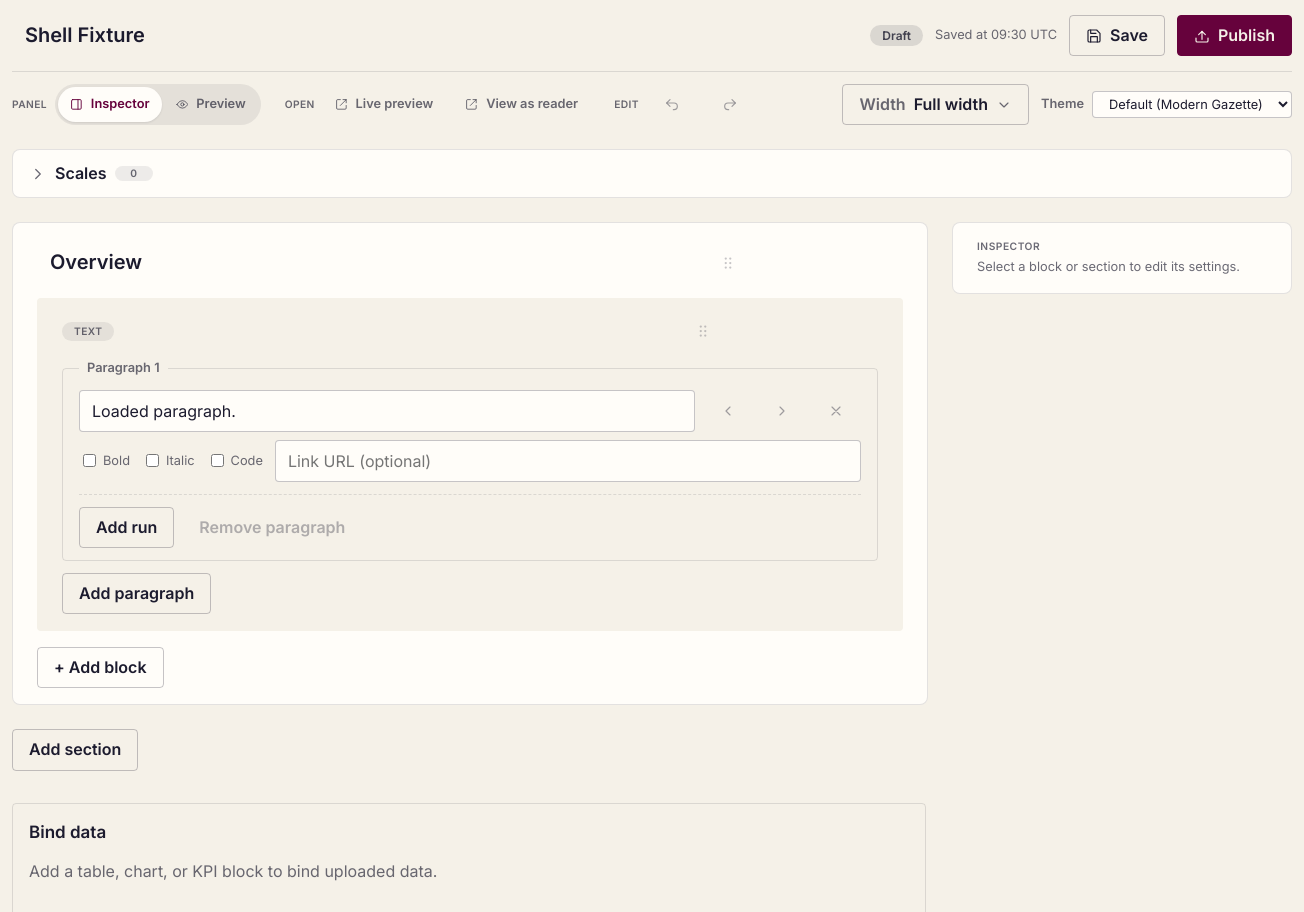
Scenario: ReportEditor shell › renders the authoritative live preview through the pure renderer
The image size is (1304, 912).
Click the button "Preview" at (211, 105), box [164,87,258,122]
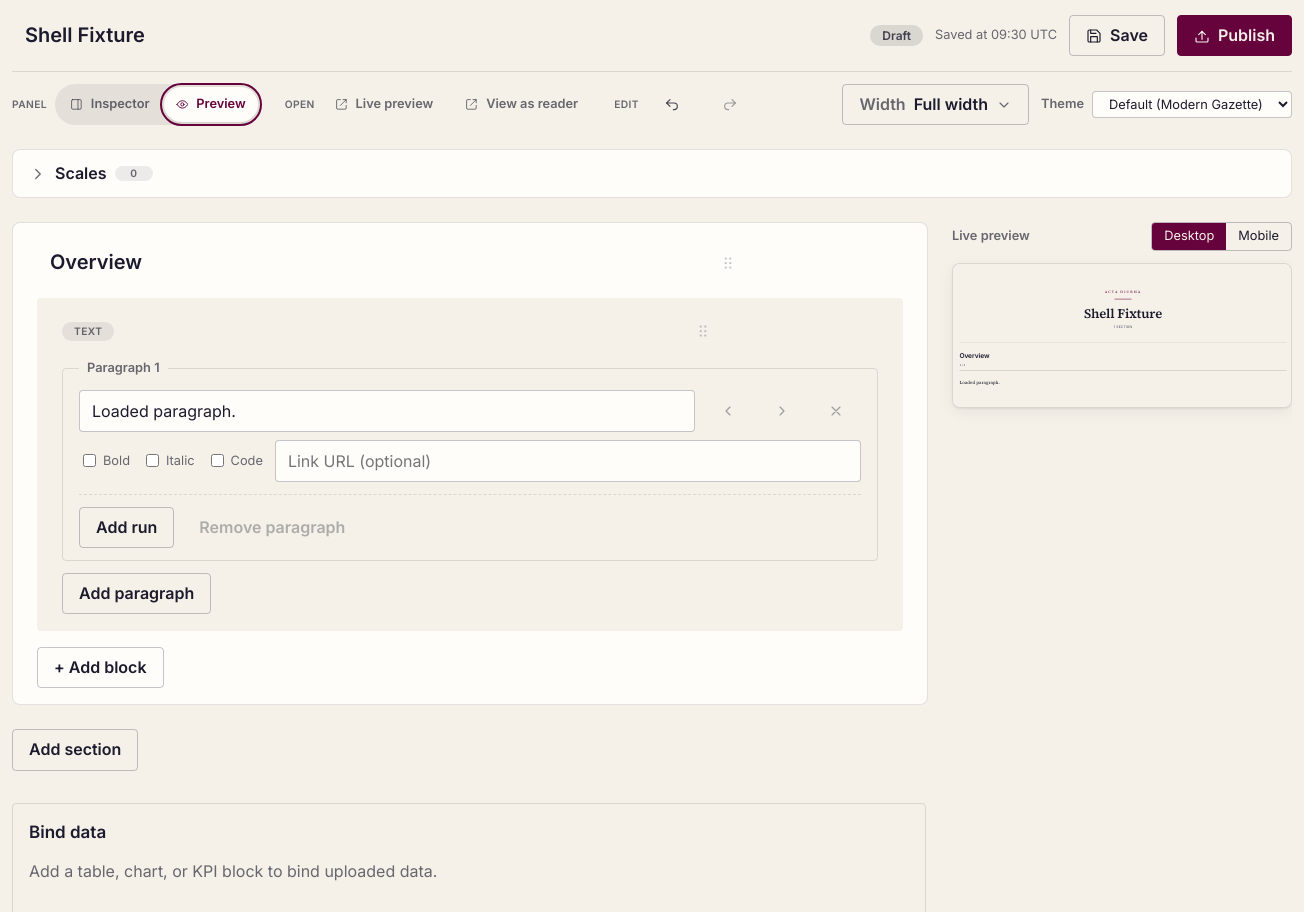
Expected: the element labelled "Live preview" is shown, [952,222,1292,408]
